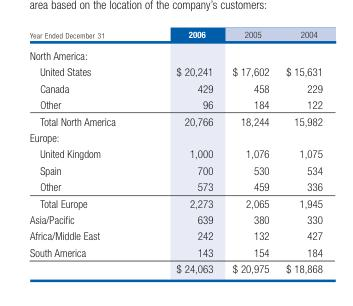table: (29, 28, 321, 274)
table column: (29, 28, 145, 274), (145, 28, 222, 274), (222, 28, 276, 274), (276, 28, 321, 274)
table column header: (29, 28, 321, 44)
table projected row header: (29, 44, 321, 63), (29, 128, 321, 145)
table row: (29, 44, 321, 63), (29, 79, 321, 96), (29, 128, 321, 145), (29, 161, 321, 178), (29, 210, 321, 227), (29, 243, 321, 260), (29, 28, 321, 44), (29, 63, 321, 79), (29, 96, 321, 112), (29, 112, 321, 128), (29, 145, 321, 161), (29, 178, 321, 194), (29, 194, 321, 210), (29, 227, 321, 243), (29, 260, 321, 274)
